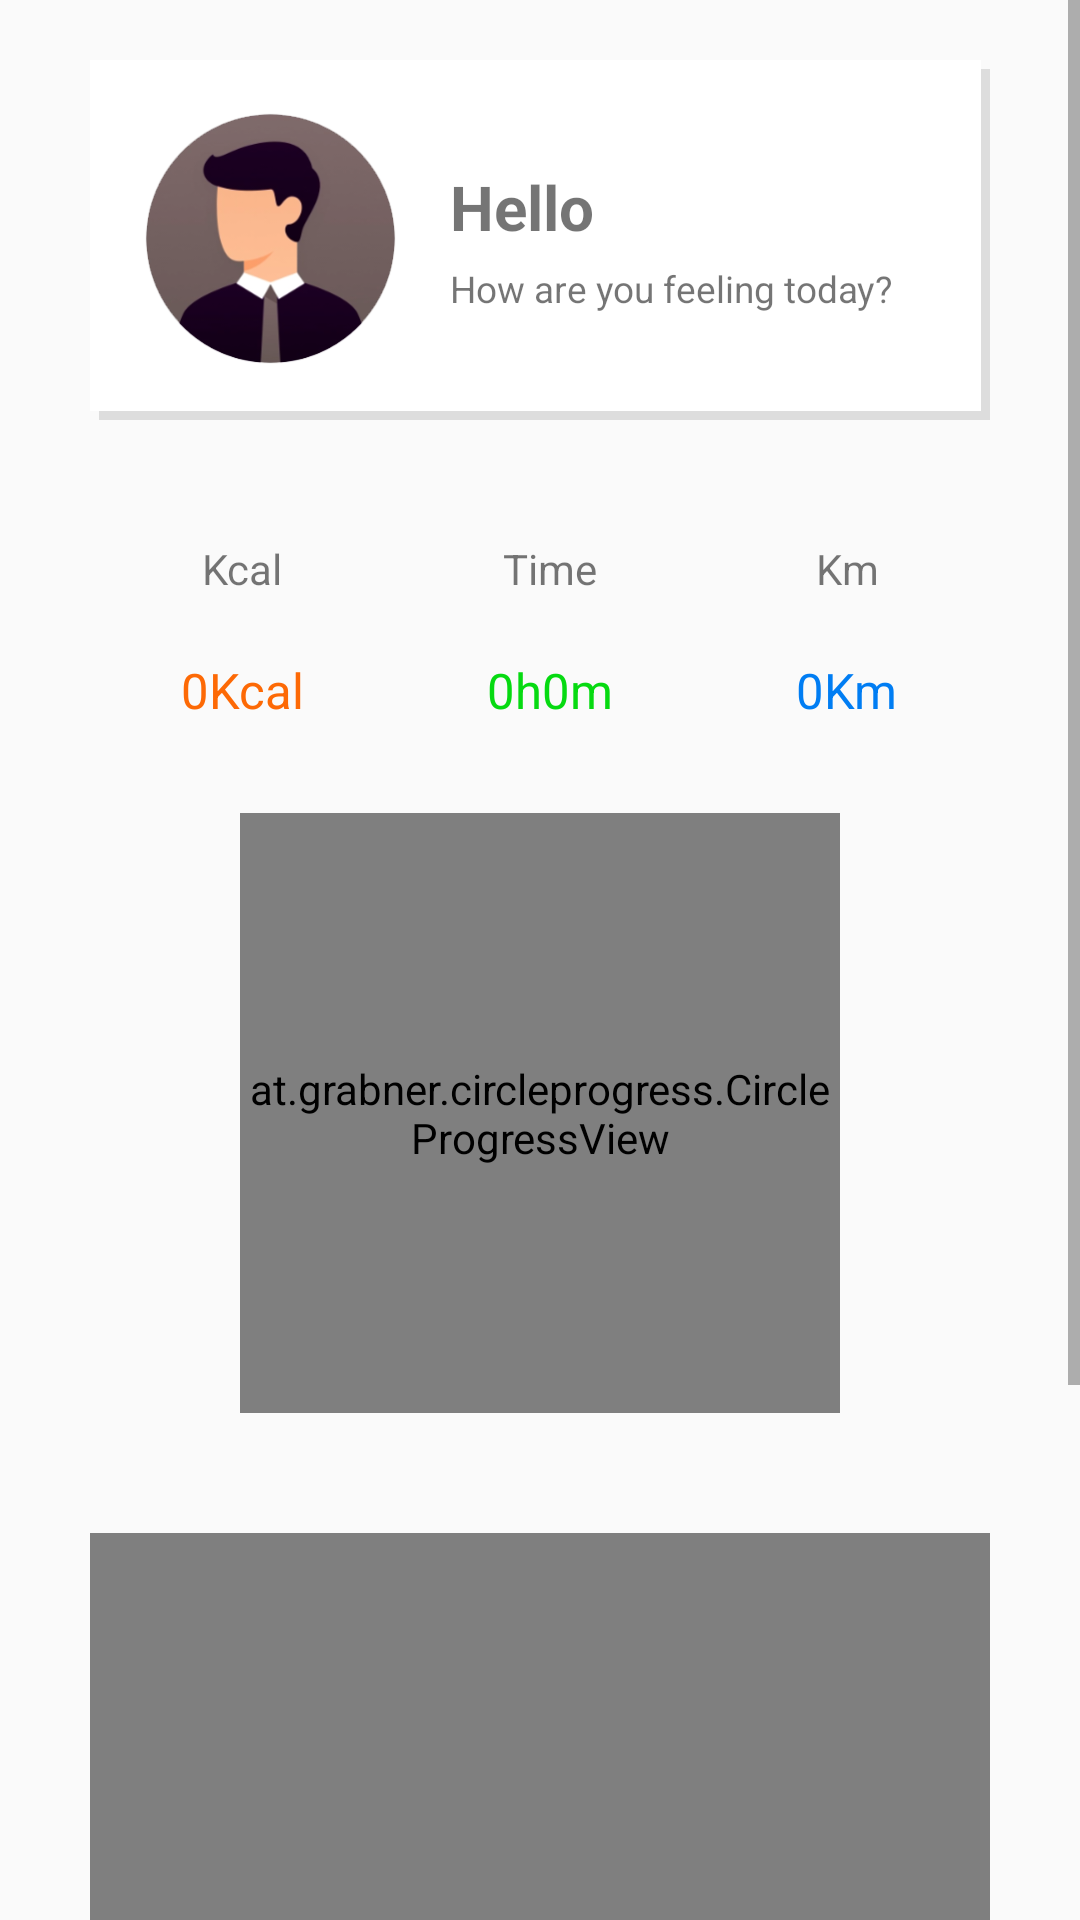

Named icons in this screenshot (1080 x 1920) and their bounding boxes, (x1, y1, x2, y2):
user main: (146, 114, 395, 363)
